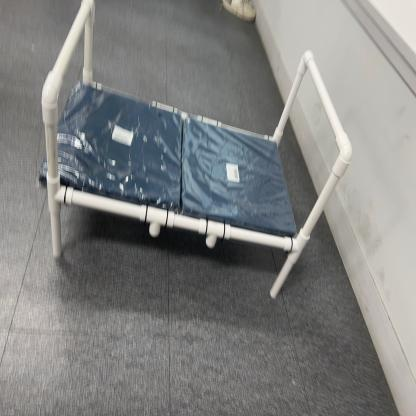np: (34, 1, 362, 321)
